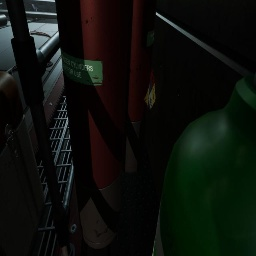0: (152, 72, 256, 256)
NitrogenTank ,: (55, 0, 130, 249), (123, 0, 157, 174)
